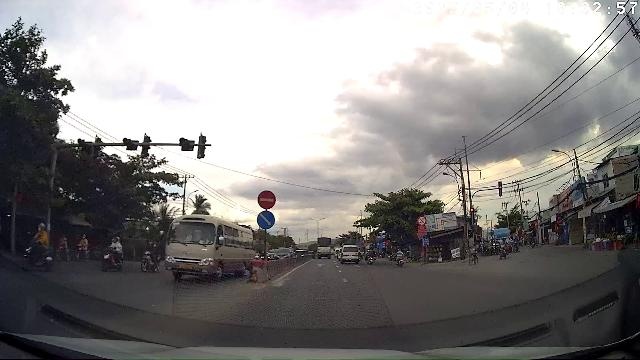102-cam-di-nguoc-chieu: (258, 190, 276, 210)
302a-huong-phai-di-vong-chuong-ngai-vat-1: (257, 211, 275, 229)
